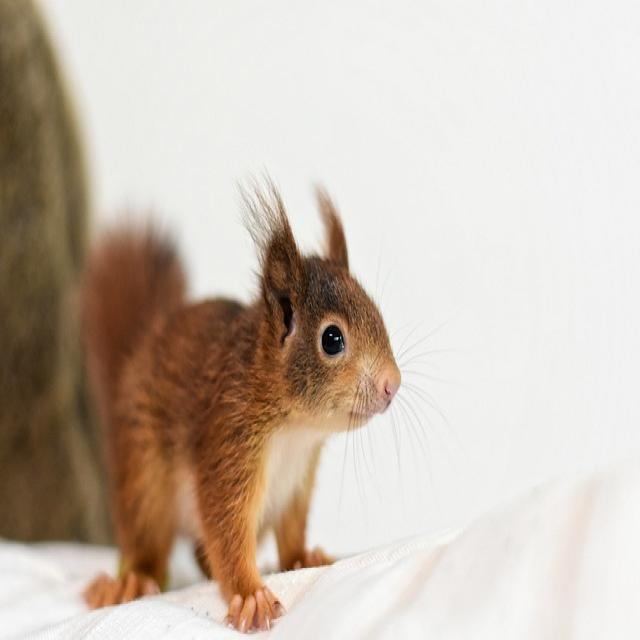Herbivorous: (79, 193, 403, 634)
